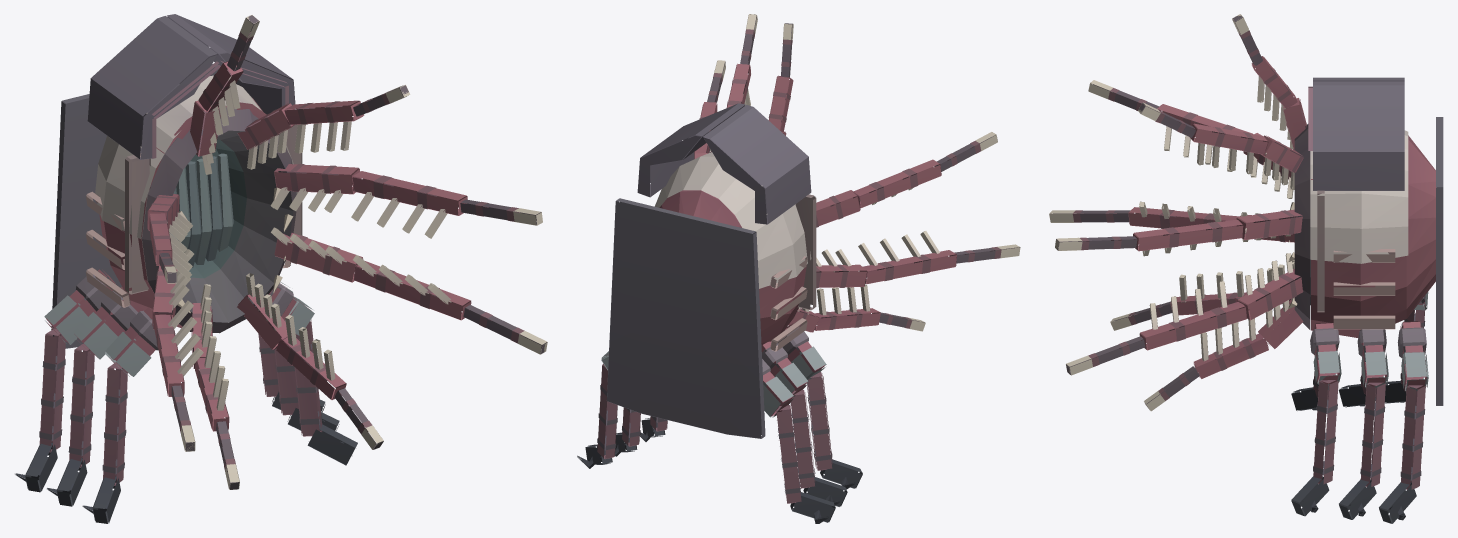
The model's file is AdaptedVisceraAssassin.glb.
3 renders of one model, left to right at view 1: azimuth 30°, elevation 25°; view 2: azimuth 150°, elevation 25°; view 3: azimuth 270°, elevation 25°, orthographic. The views are drawn at different scales.
Visible parts, largest first — view 1: Body, LegR, ArmR, ArmL, LegL; view 2: Body, ArmR, LegR, LegL, ArmL; view 3: Body, LegL, ArmL, LegR, ArmR.
Boxes of the visible parts, x1=… form: Body: x1=47, y1=14, x2=547, y2=506; LegR: x1=15, y1=269, x2=115, y2=492; ArmR: x1=82, y1=307, x2=158, y2=523; ArmL: x1=268, y1=284, x2=357, y2=465; LegL: x1=258, y1=334, x2=325, y2=412; Body: x1=606, y1=14, x2=1020, y2=507; ArmR: x1=777, y1=323, x2=862, y2=489; LegR: x1=762, y1=359, x2=835, y2=523; LegL: x1=577, y1=351, x2=617, y2=468; ArmL: x1=640, y1=416, x2=667, y2=441; Body: x1=1049, y1=14, x2=1443, y2=519; LegL: x1=1379, y1=321, x2=1428, y2=523; ArmL: x1=1291, y1=322, x2=1341, y2=516; LegR: x1=1384, y1=292, x2=1428, y2=403; ArmR: x1=1291, y1=371, x2=1328, y2=410.
Bounding box in the file's own units: 8.02 × 10.39 × 8.4.
